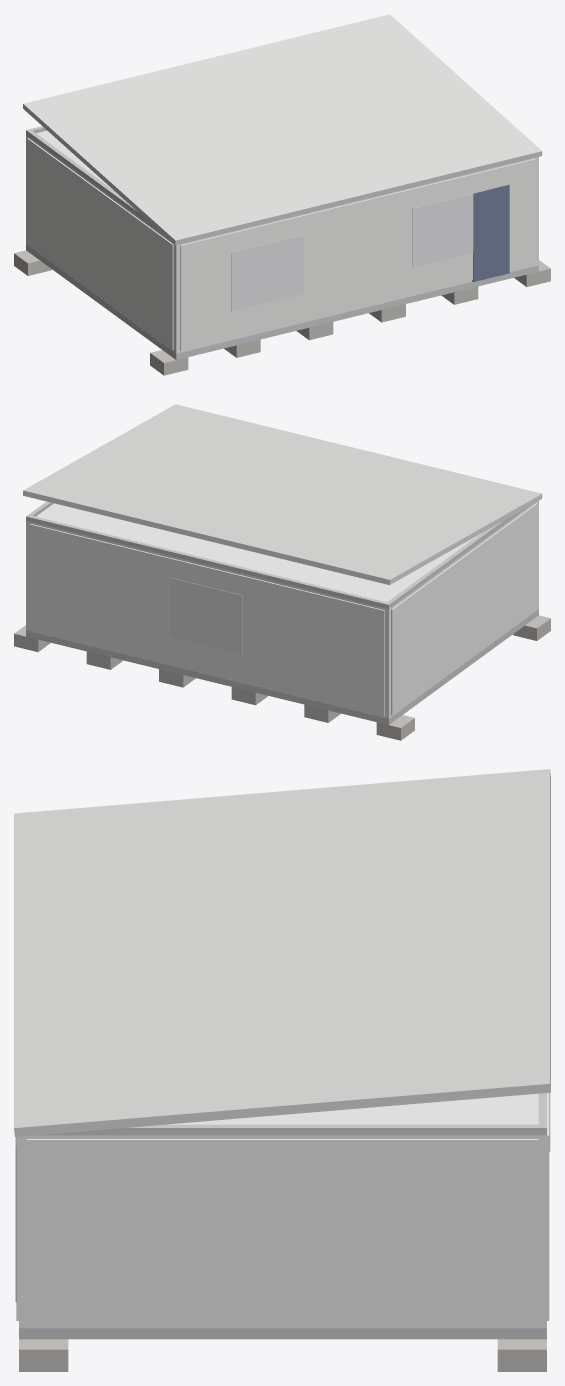
The model's file is Studio-30-Premium+SlopingRoof-LOD1.glb.
3 views of the same model, one above another, from view 1: azimuth 30°, elevation 25°; view 2: azimuth 150°, elevation 25°; view 3: azimuth 270°, elevation 25° (orthographic). The views are drawn at different scales.
Visible parts, largest first — view 1: RoofSlopingUpgrade, ExteriorPanelsPremium, WindowsLargeUpgrade, BaseFrame, FoundationBlocks, EntryDoor, ExteriorShell, TopFrame, InteriorCeiling; view 2: ExteriorPanelsPremium, RoofSlopingUpgrade, InteriorCeiling, WindowsLargeUpgrade, ExteriorShell, TopFrame, BaseFrame, FoundationBlocks; view 3: RoofSlopingUpgrade, ExteriorPanelsPremium, ExteriorShell, BaseFrame, InteriorCeiling, TopFrame, FoundationBlocks.
Part boxes in pixels (x1,y1,x2,y2): RoofSlopingUpgrade: (23, 14, 542, 245); ExteriorPanelsPremium: (27, 138, 535, 350); WindowsLargeUpgrade: (231, 190, 484, 311); BaseFrame: (26, 244, 538, 359); FoundationBlocks: (14, 250, 550, 375); EntryDoor: (472, 184, 509, 281); ExteriorShell: (26, 134, 538, 353); TopFrame: (26, 126, 161, 233); InteriorCeiling: (36, 130, 112, 189); ExteriorPanelsPremium: (29, 503, 537, 715); RoofSlopingUpgrade: (23, 404, 542, 584); InteriorCeiling: (36, 503, 479, 602); WindowsLargeUpgrade: (170, 577, 242, 654); ExteriorShell: (26, 501, 538, 718); TopFrame: (26, 501, 528, 608); BaseFrame: (26, 609, 538, 724); FoundationBlocks: (14, 615, 550, 740); RoofSlopingUpgrade: (14, 769, 550, 1136); ExteriorPanelsPremium: (16, 1093, 549, 1325); ExteriorShell: (19, 1135, 546, 1328); BaseFrame: (19, 1328, 546, 1339); InteriorCeiling: (167, 1093, 538, 1124); TopFrame: (39, 1093, 546, 1135); FoundationBlocks: (19, 1339, 546, 1371).
Bounding box in the file's own units: 9.6 × 3.77 × 6.56.
